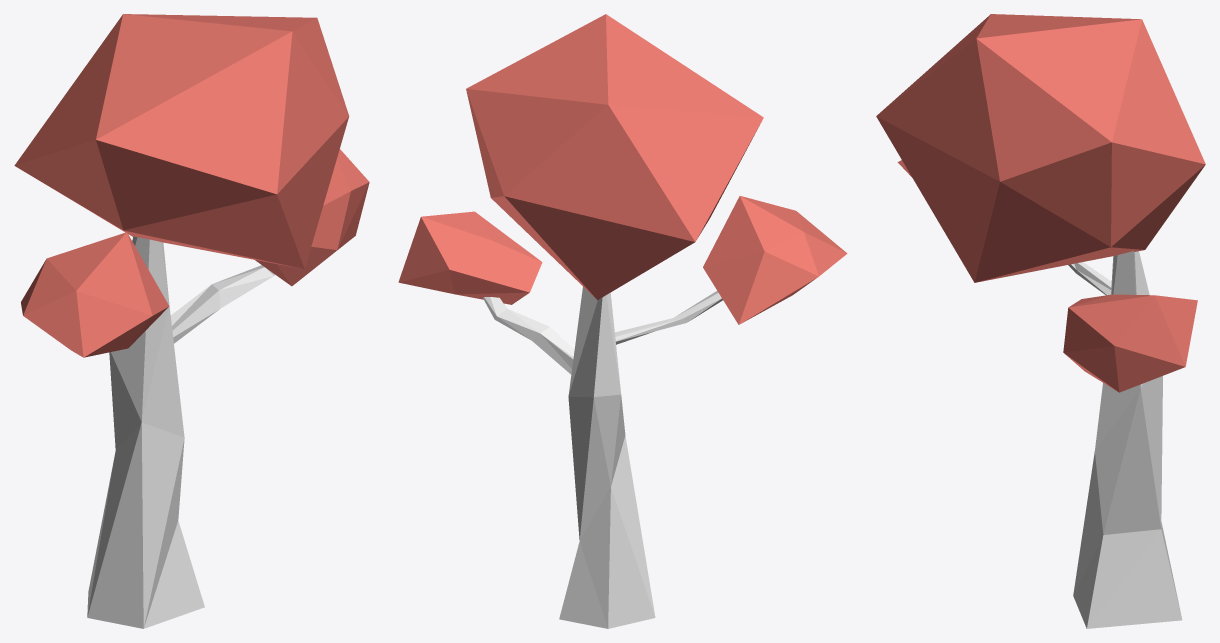
File: Tree_4.glb
3 renders of one model, left to right at view 1: azimuth 30°, elevation 25°; view 2: azimuth 150°, elevation 25°; view 3: azimuth 270°, elevation 25°, orthographic. The views are drawn at different scales.
Parts seen in each view (by area): view 1: Sphere.2, Tree_4, Sphere.1, Sphere; view 2: Sphere.2, Tree_4, Sphere.1, Sphere; view 3: Sphere.2, Tree_4, Sphere.
Boxes of the visible parts, bbox=[...] form: Sphere.2: bbox=[14, 14, 349, 269]; Tree_4: bbox=[87, 236, 274, 628]; Sphere.1: bbox=[21, 232, 169, 357]; Sphere: bbox=[255, 149, 369, 286]; Sphere.2: bbox=[466, 14, 763, 299]; Tree_4: bbox=[483, 287, 722, 628]; Sphere.1: bbox=[703, 196, 847, 324]; Sphere: bbox=[398, 211, 542, 304]; Sphere.2: bbox=[876, 14, 1205, 282]; Tree_4: bbox=[1068, 251, 1182, 628]; Sphere: bbox=[1063, 294, 1197, 392].
Size of the model in its own units: 502 by 723 by 356.
